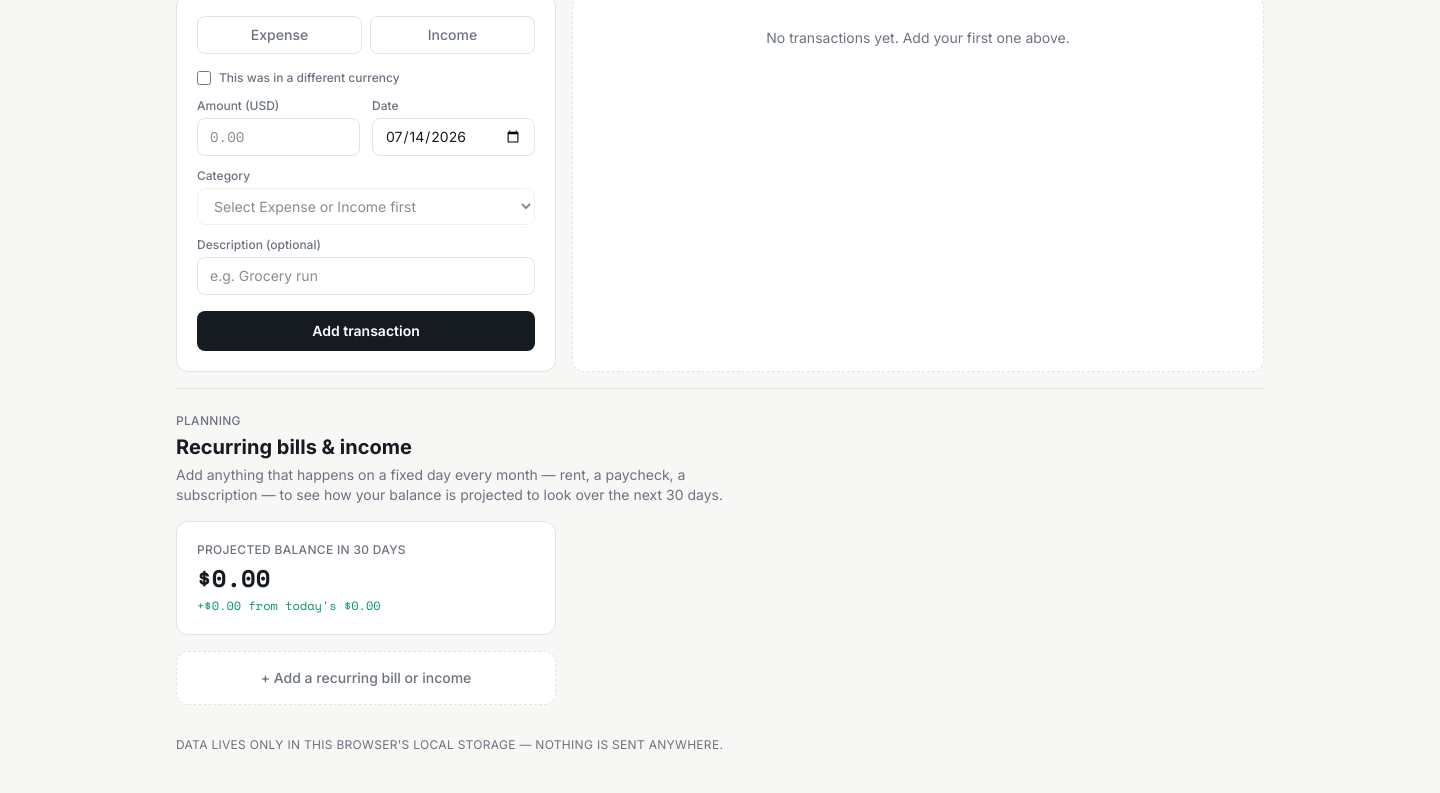
App — planning › persists recurring items to localStorage
(page scrolled)
Click the button "+ Add a recurring bill or income".
click(366, 678)  # box [176, 651, 556, 705]
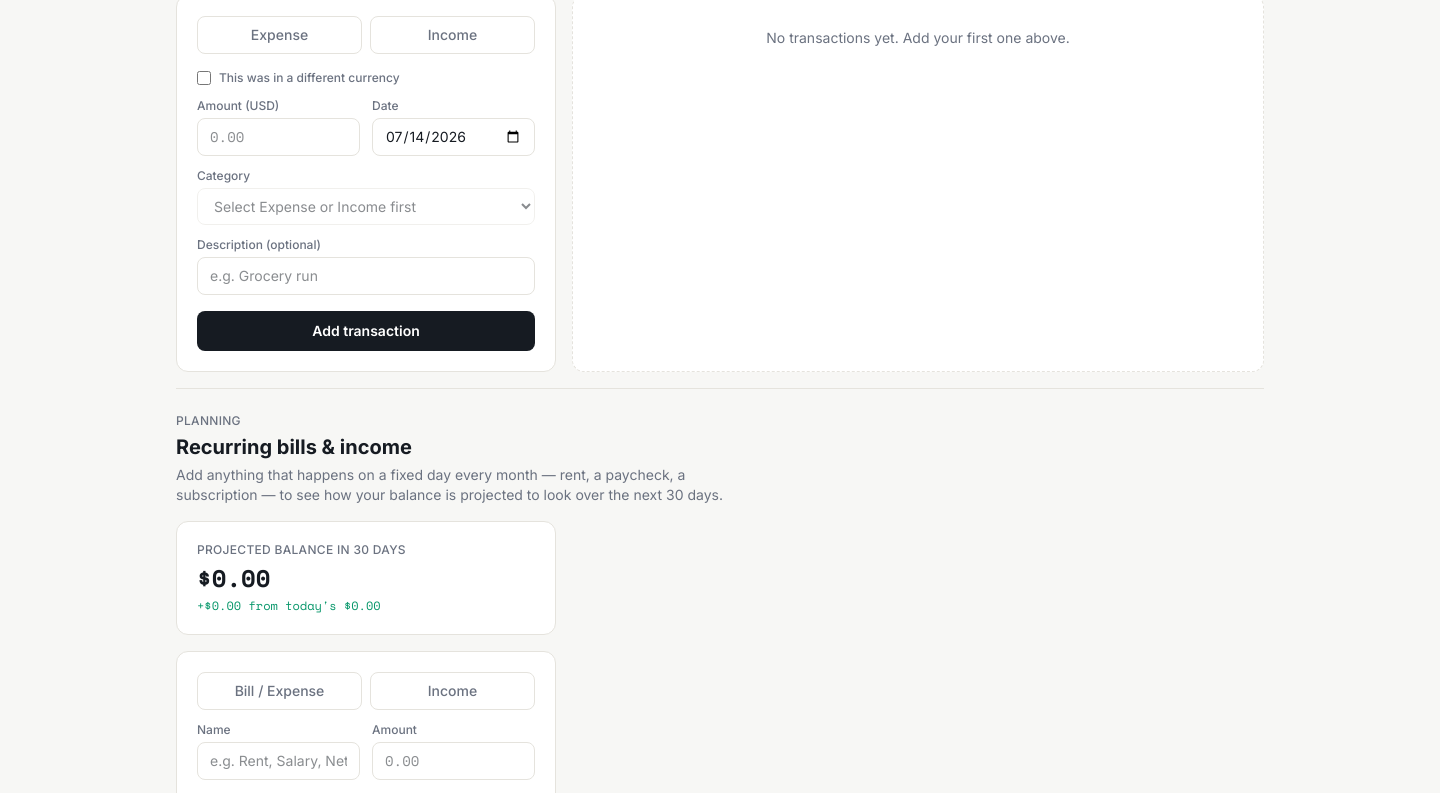
Click the button "Income" below "from today's $0.00".
click(452, 691)  # box [370, 672, 535, 710]
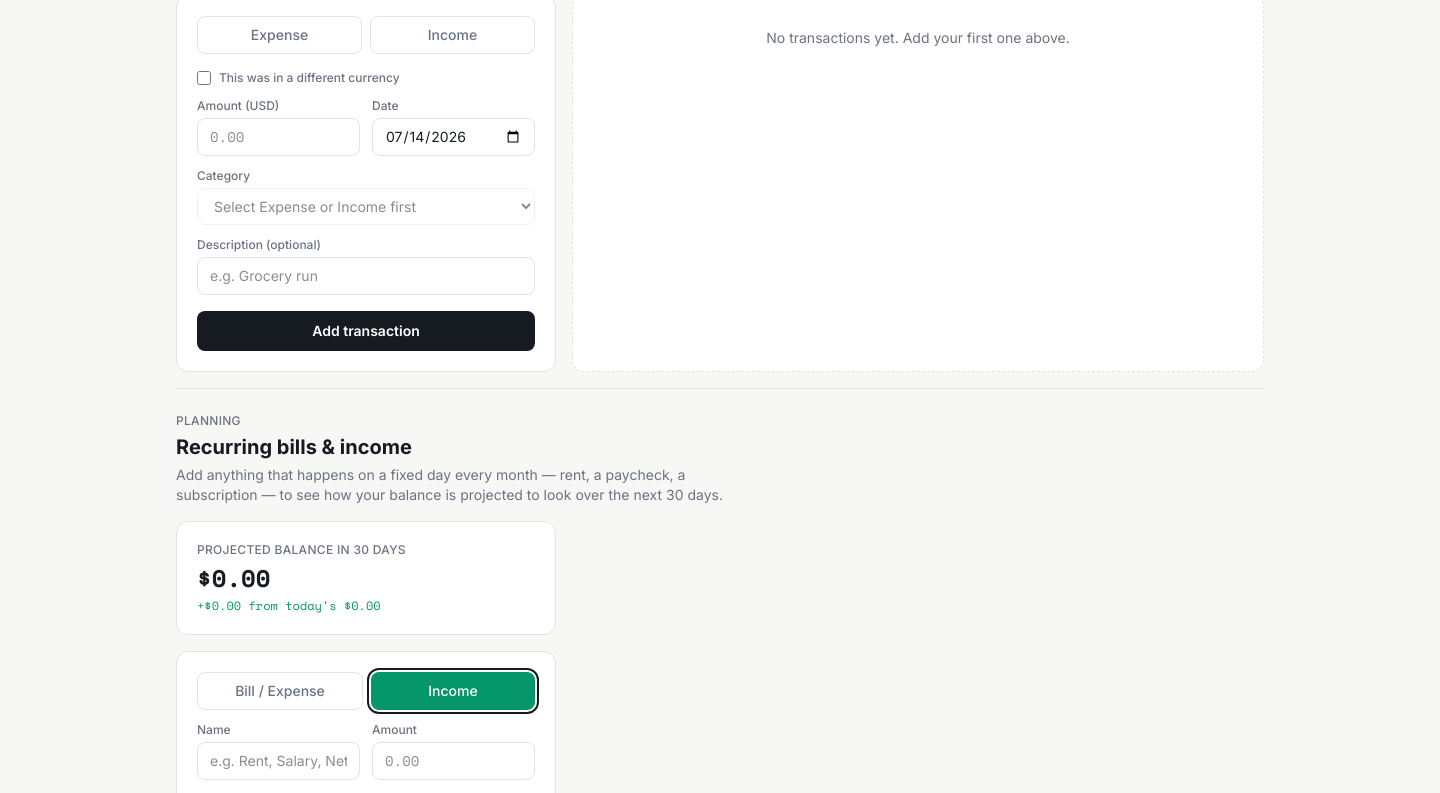
Type "Salary" into the field labelled "Name".
click(278, 761); type("Salary")  # box [197, 742, 360, 780]
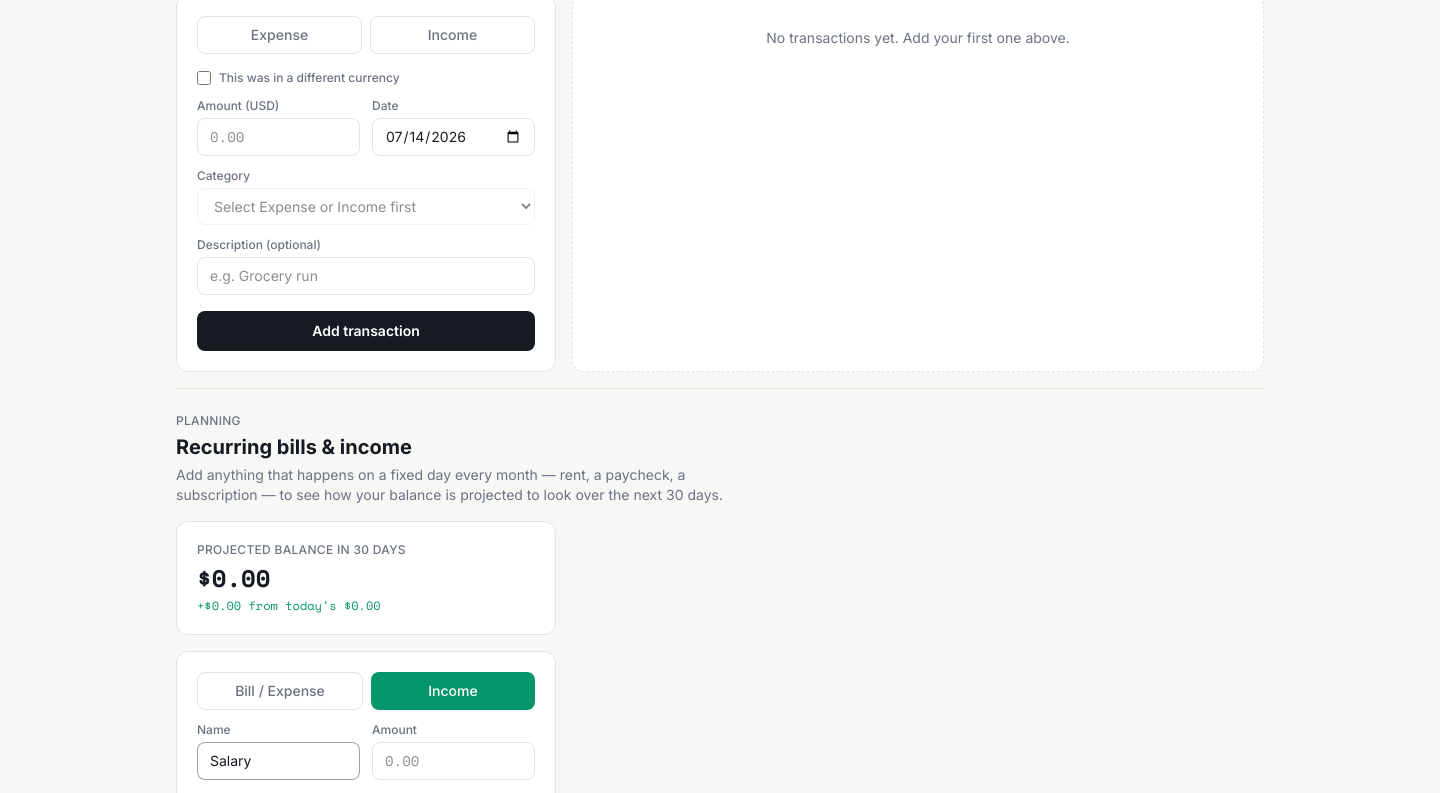
Type "3000" into the number field labelled "Amount".
click(454, 761); type("3000")  # box [372, 742, 535, 780]
(page scrolled)
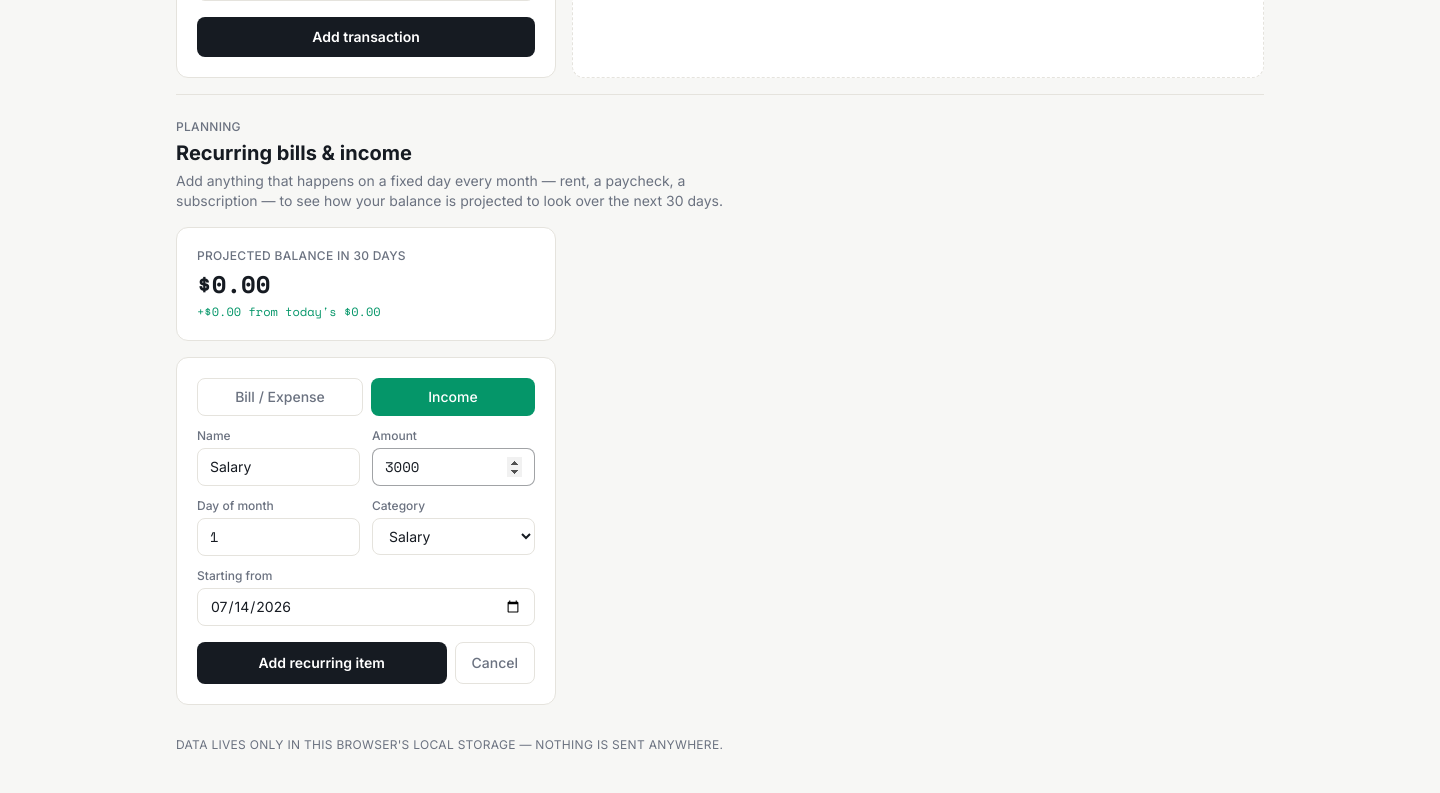
Click the button "Add recurring item".
click(322, 663)  # box [197, 642, 446, 684]
(page scrolled)
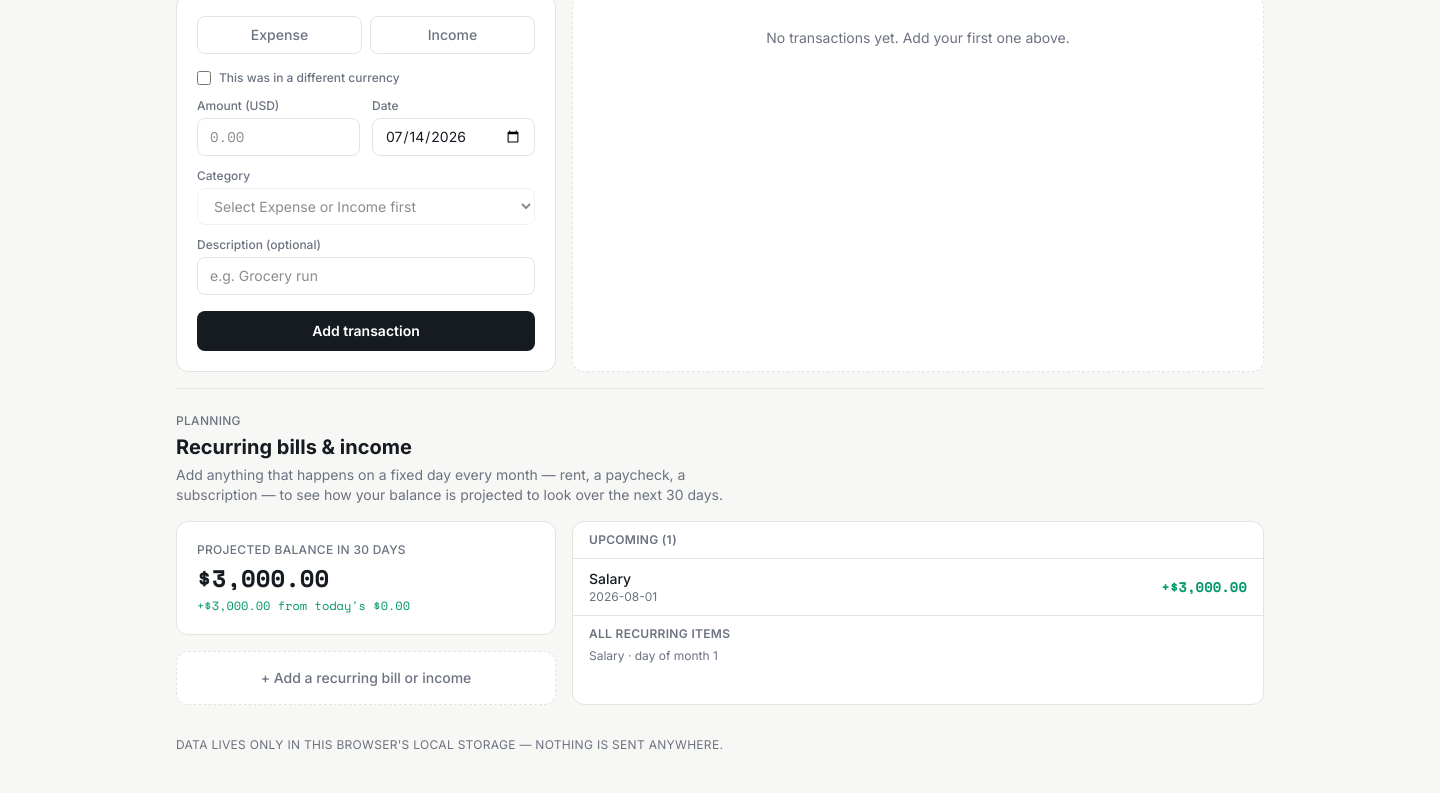
Result: the text "Salary" is shown at [589, 570, 631, 587]
